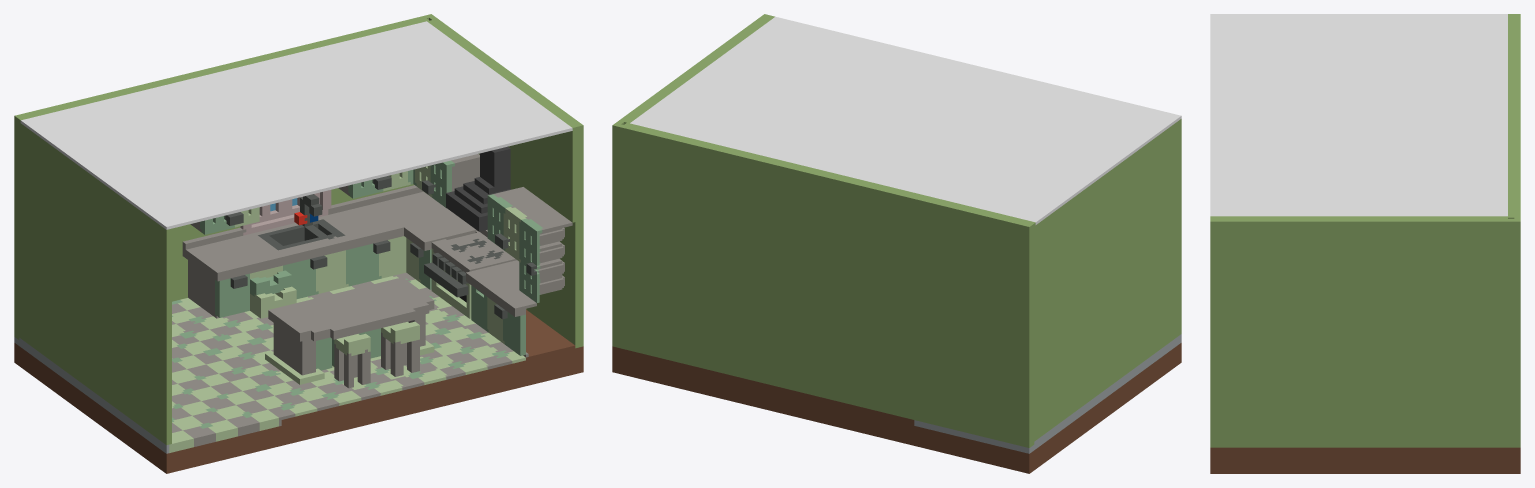
Rendered from kitchen_119x63x200_26_colors-0.obj.
3 views of the same model, side by side, from view 1: azimuth 30°, elevation 25°; view 2: azimuth 150°, elevation 25°; view 3: azimuth 270°, elevation 25° (orthographic). The views are drawn at different scales.
Size of the model in its own units: 15.2 by 8.6 by 9.6.
1 material, 1 textured.
